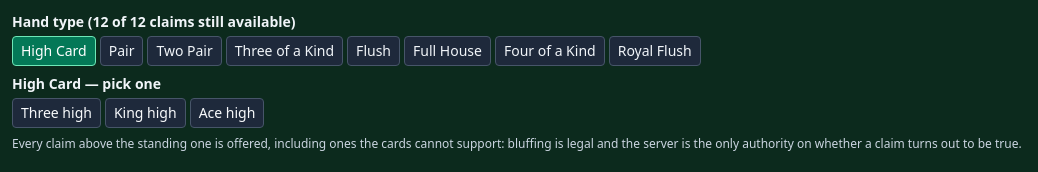
Scenario: the claim builder offers only what the server allows › offers impossible claims too, because bluffing is legal
Click the button "Flush" at (374, 51), box [347,36,400,66]
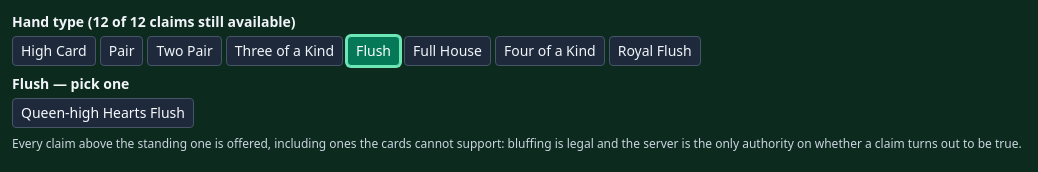
Expected: the text "bluffing is legal" is shown, [12,135,1022,152]
Result: the button "Queen-high Hearts Flush" is shown at [12,98,194,128]
